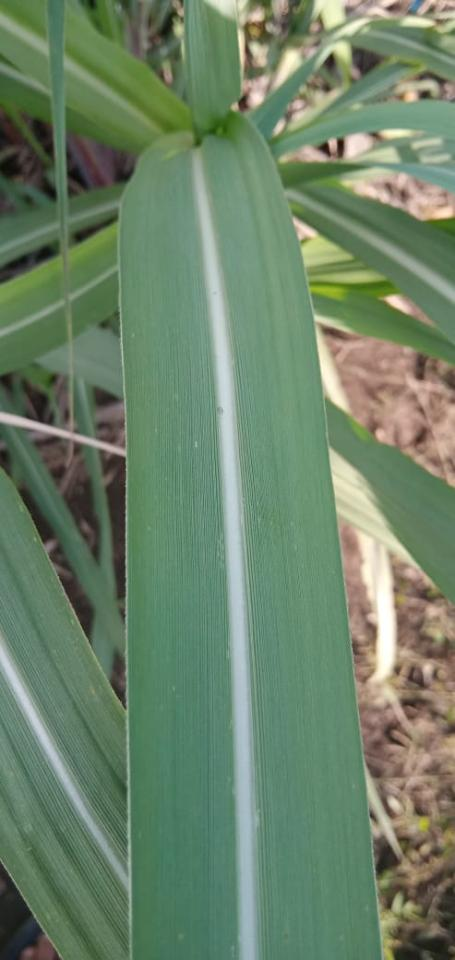Healthy: (120, 112, 380, 959), (0, 470, 128, 959)
